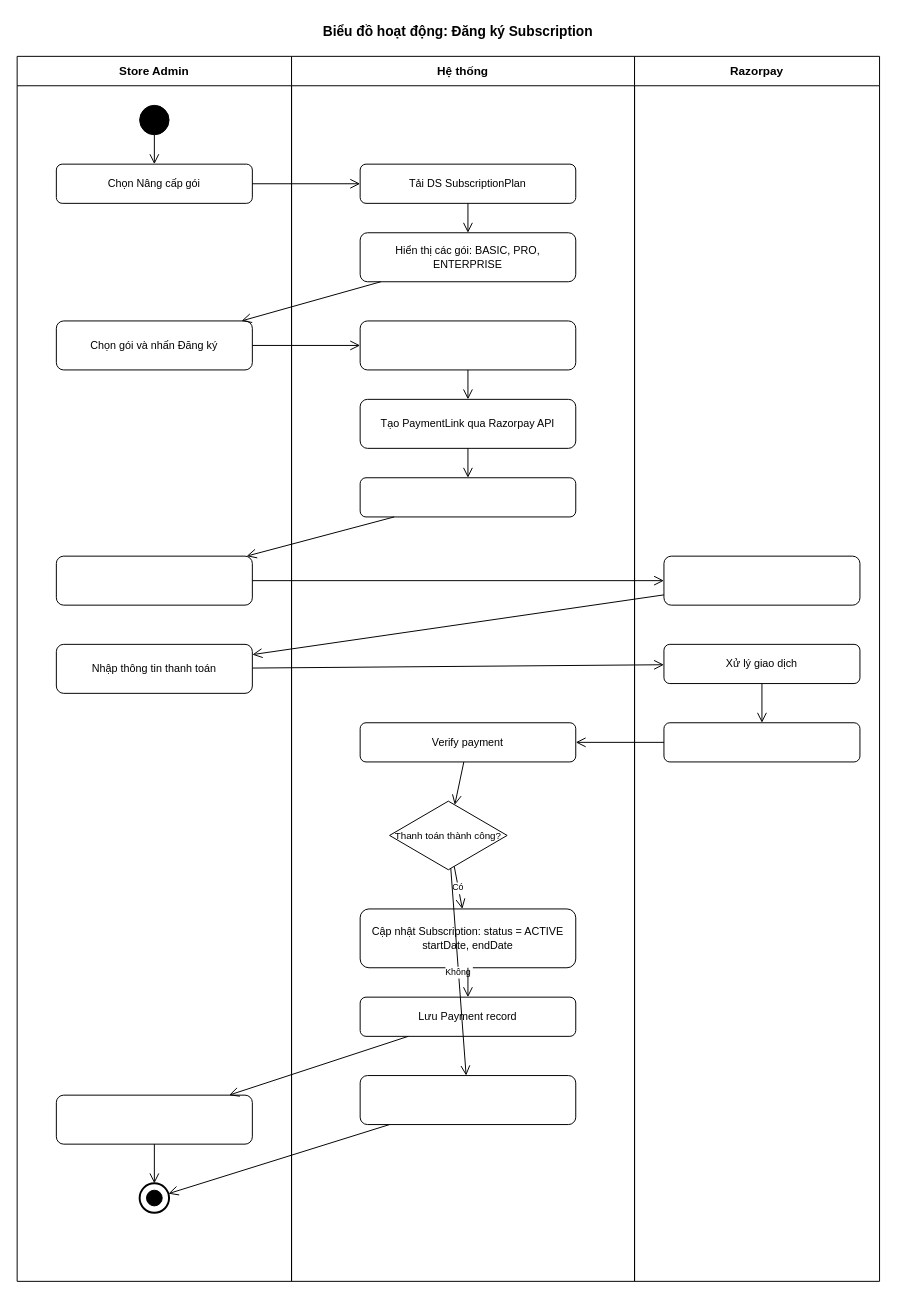
This 916x1299 diagram has some shape labels left out. Here are the shapes that lost their labels. From the top down, the centre of each, then its label:
the point at 467,345: POST /api/subscriptions Tạo Subscription(PENDING)
the point at 467,497: Trả về paymentLinkUrl
the point at 153,580: Redirect đến trang thanh toán Razorpay
the point at 761,580: Hiển thị form thanh toán
the point at 761,742: Callback về hệ thống
the point at 153,1119: Thông báo đăng ký thành công
the point at 467,1100: Cập nhật Subscription: status = CANCELLED
